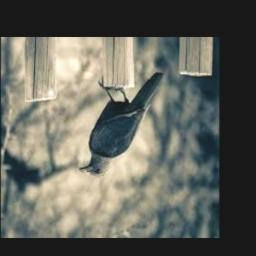Crow: (79, 72, 166, 178)
